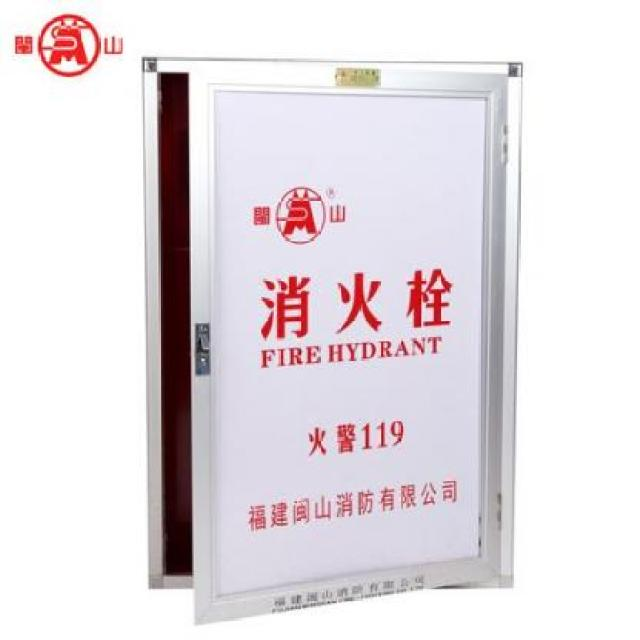firehydrant: (137, 52, 527, 631)
